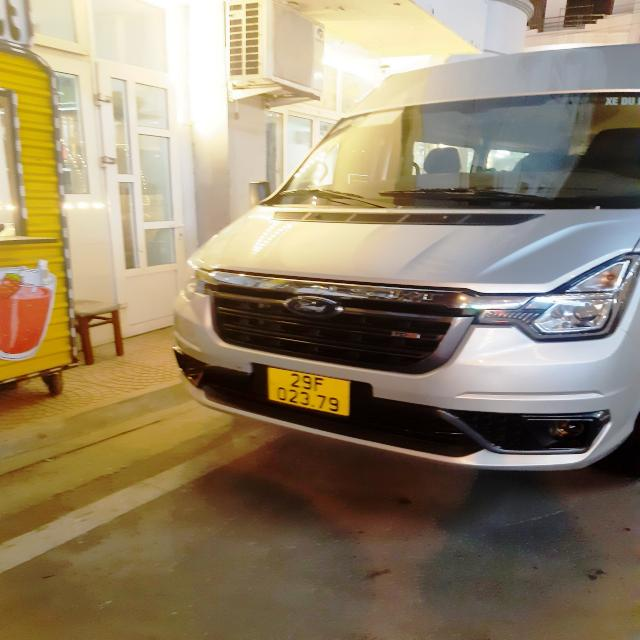license_plate: (263, 364, 357, 423)
